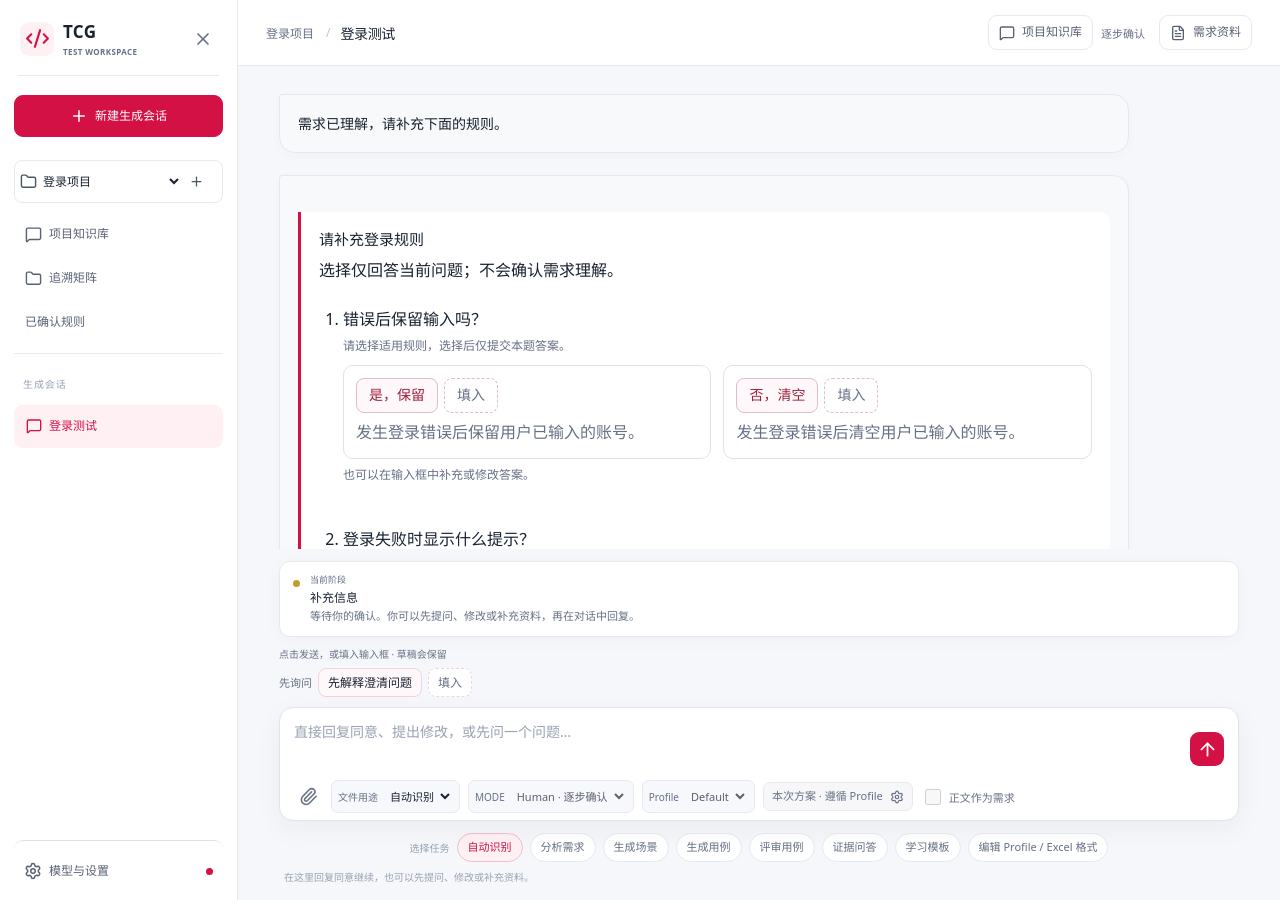
Test: failed local clarification submission leaves both choices available and keeps the composer intact
Type "这段草稿不能被快捷回复清掉" into the text box named "聊天输入".
click(737, 744); type("这段草稿不能被快捷回复清掉")  # box left=294, top=720, right=1180, bottom=768
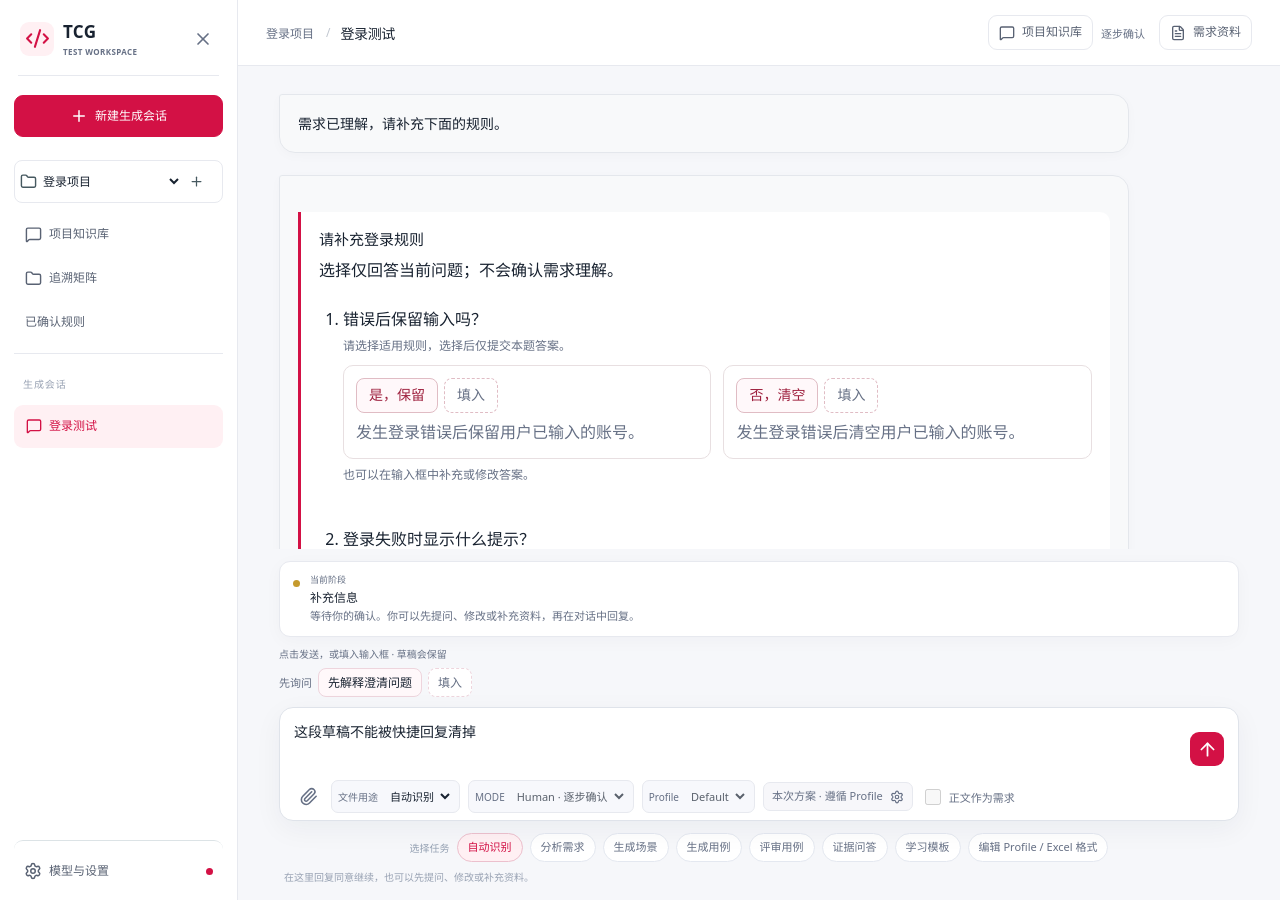
Click the button "否，清空".
click(778, 396)  # box left=736, top=378, right=818, bottom=413
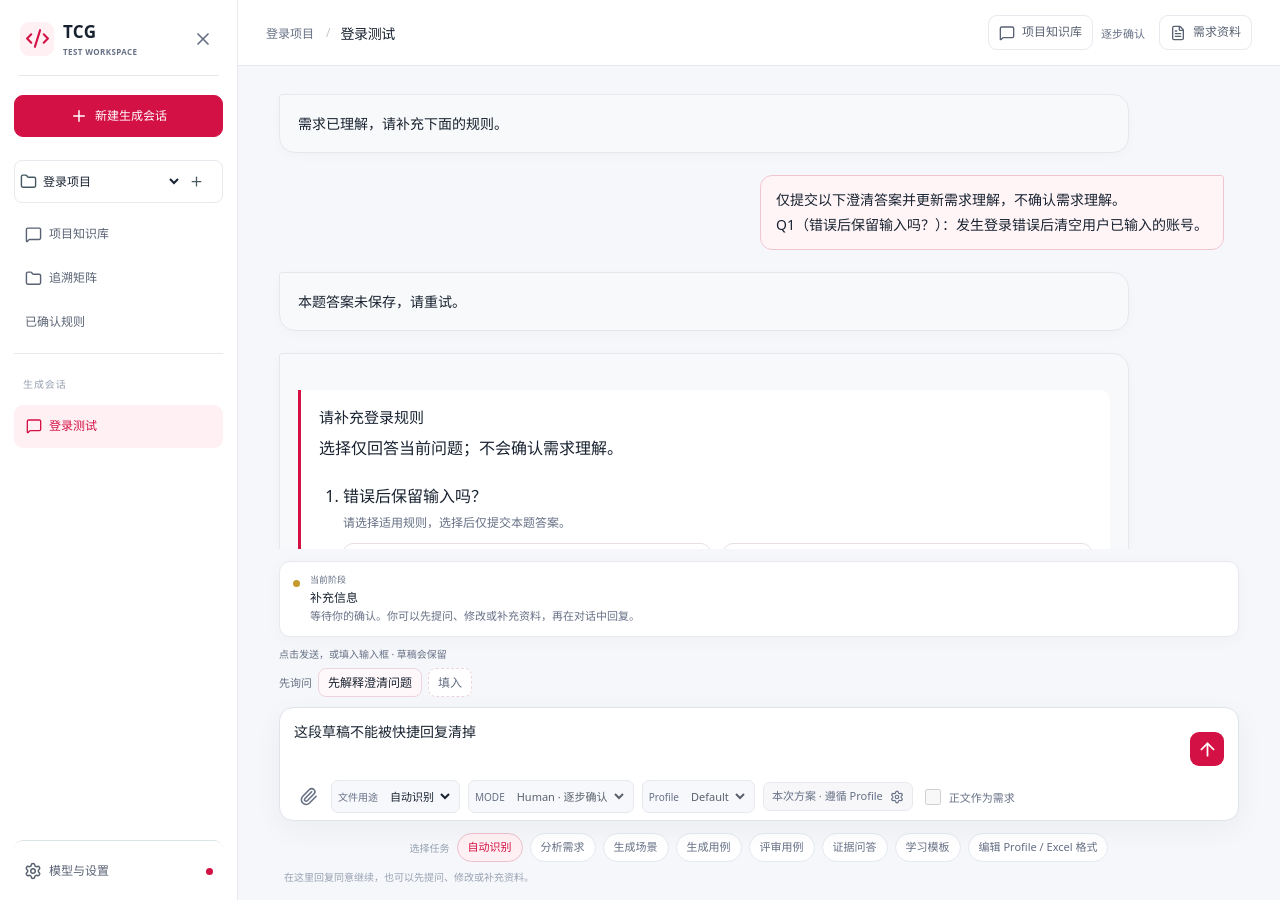
Expected: the text "本题答案未保存，请重试。" is shown, left=298, top=292, right=466, bottom=311
